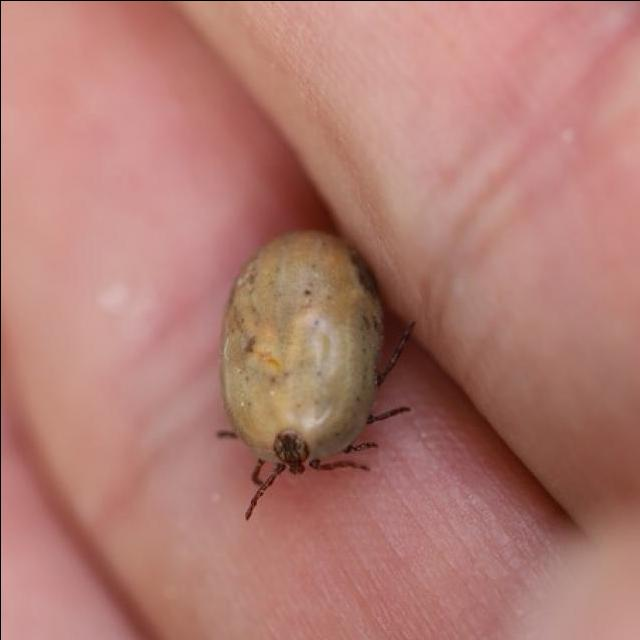Dermacentor Reticulatus-F-Fed: (213, 227, 414, 517)
